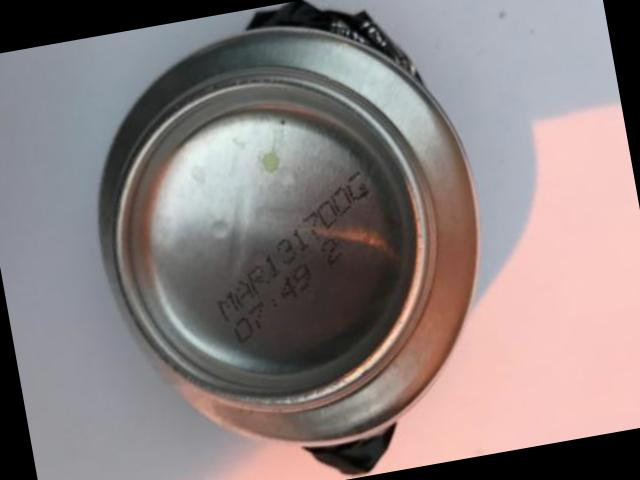metal: (102, 2, 479, 446)
